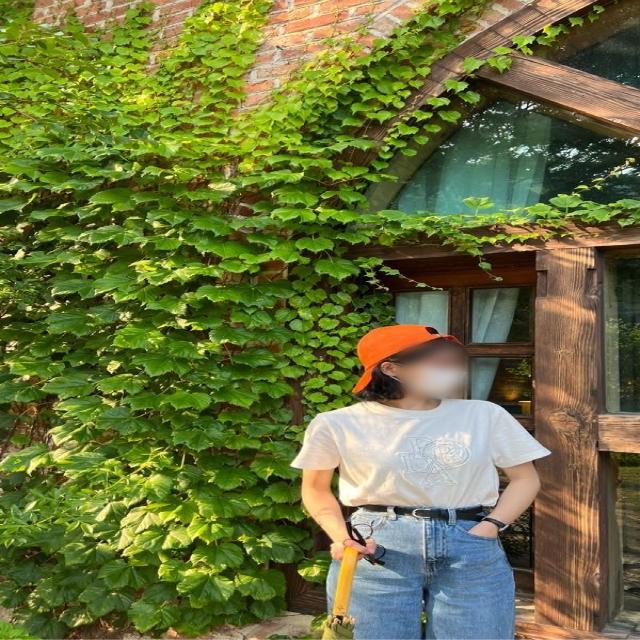denimpants: (347, 504, 517, 638)
shortsleeve: (290, 398, 548, 509)
